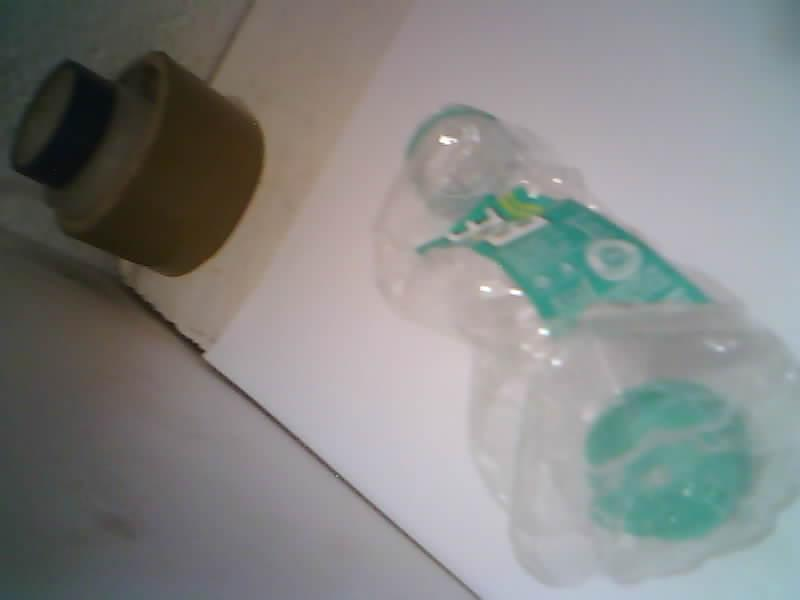non-biodegradable: (379, 107, 799, 584)
